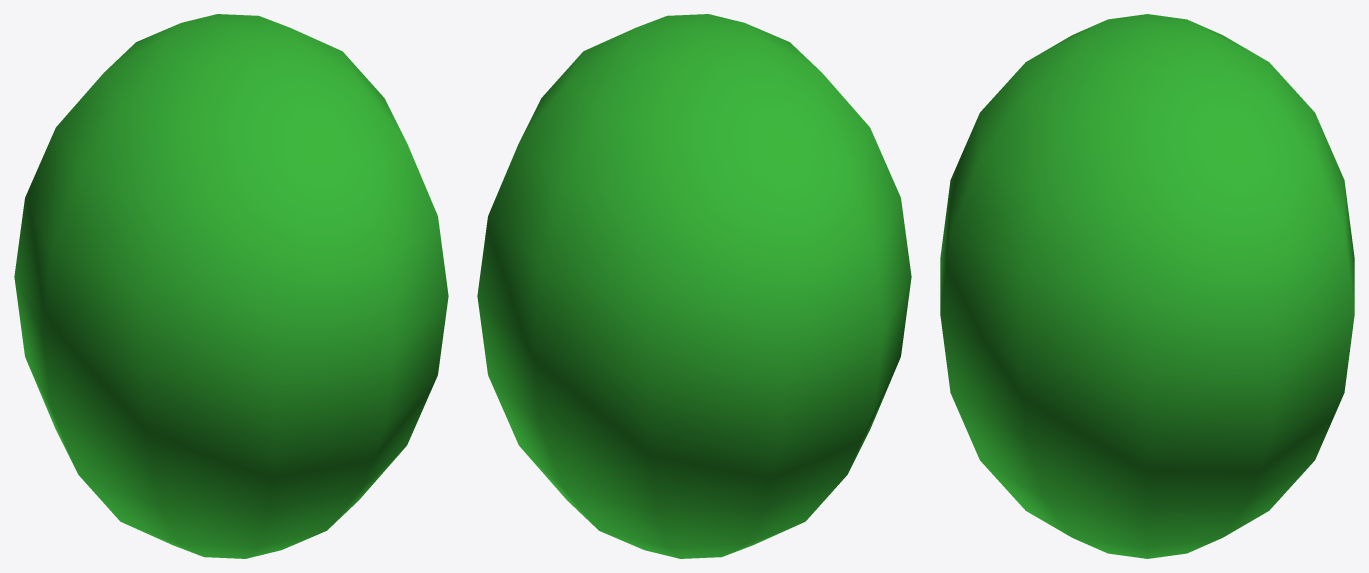
Rendered from musgalte_stage2.obj.
3 renders of one model, left to right at view 1: azimuth 30°, elevation 25°; view 2: azimuth 150°, elevation 25°; view 3: azimuth 270°, elevation 25°, orthographic.
Bounding box in the file's own units: 2 × 2.6 × 1.9.
